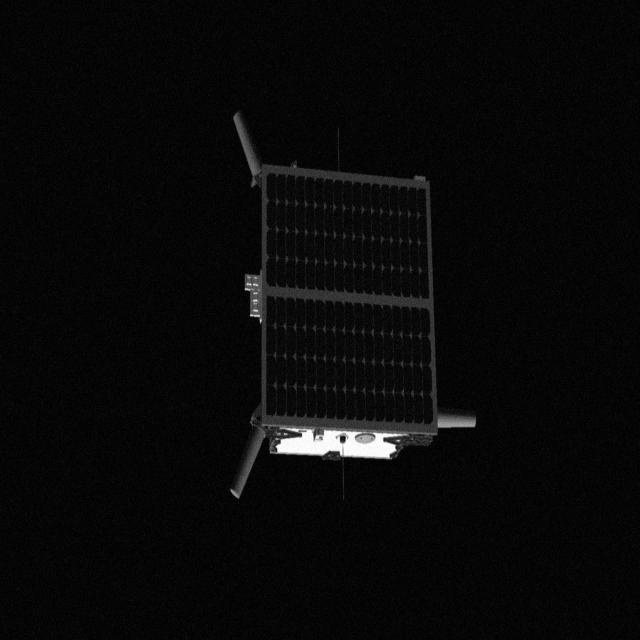medium_debris: (224, 128, 486, 514)
